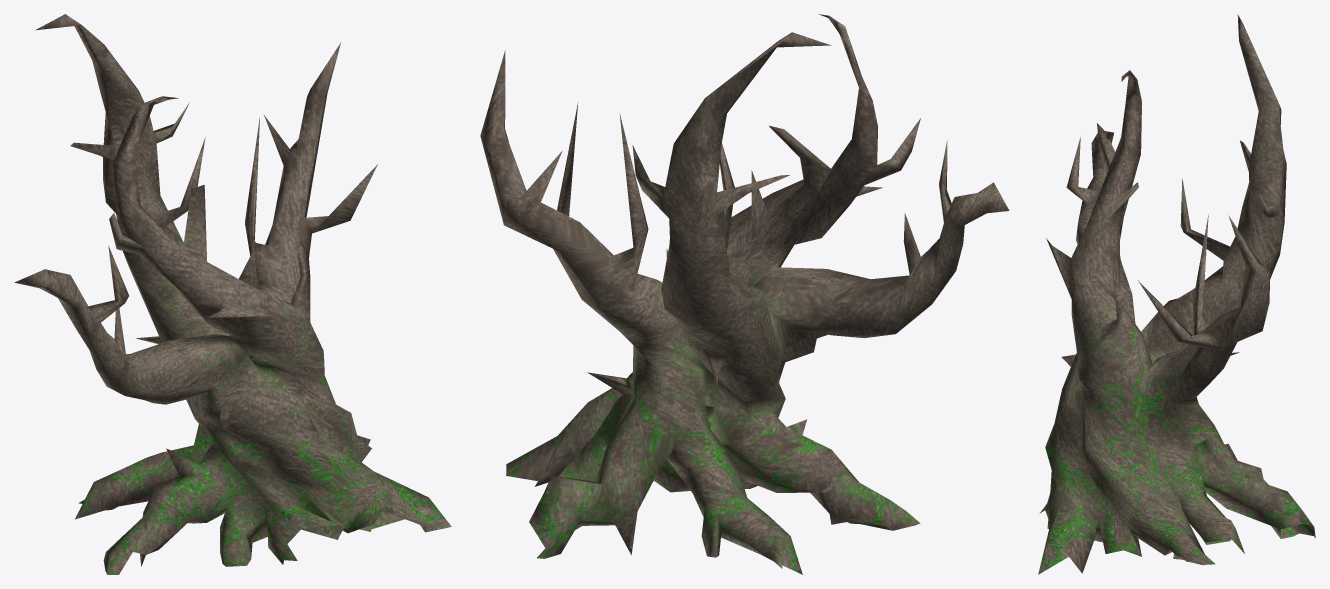
Rendered from wisdomTree.gltf.
3 views of the same model, side by side, from view 1: azimuth 30°, elevation 25°; view 2: azimuth 150°, elevation 25°; view 3: azimuth 270°, elevation 25° (orthographic). The views are drawn at different scales.
Parts seen in each view (by area): view 1: Trunk; view 2: Trunk; view 3: Trunk.
Part boxes in pixels (x1,y1,x2,y2): Trunk: (14, 14, 451, 574); Trunk: (480, 14, 1009, 574); Trunk: (1038, 14, 1315, 574).
Size of what is drawn, in the model's own units: 7.96 by 9.39 by 5.35.
